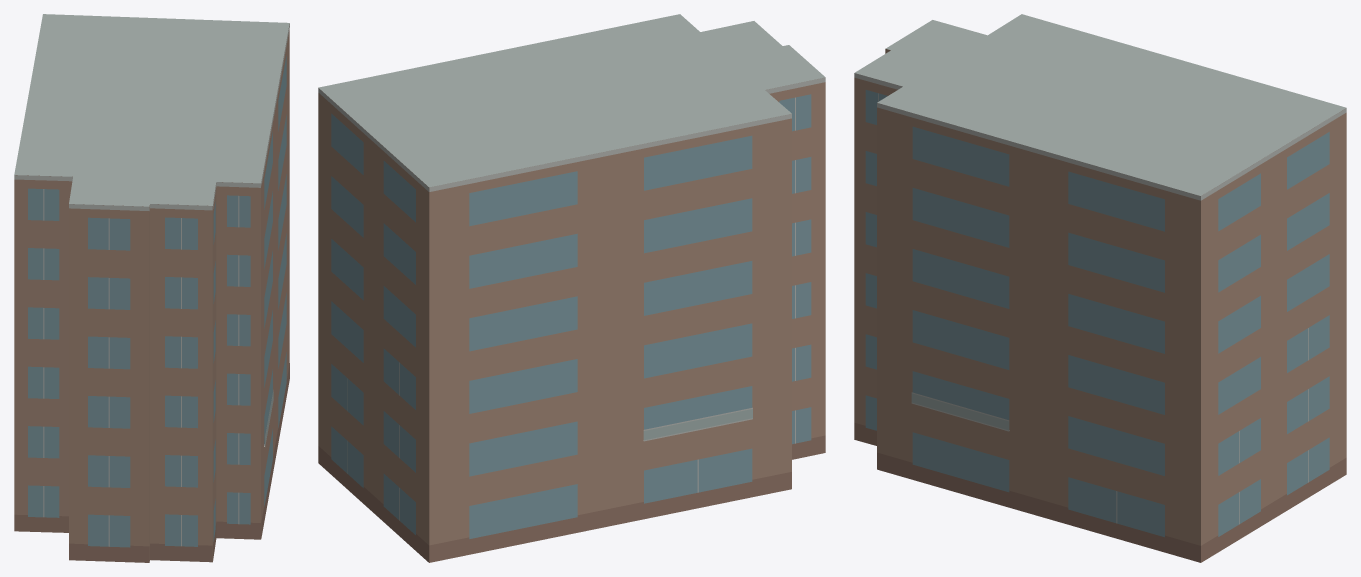
The model's file is survey-upis-33045116.glb.
3 renders of one model, left to right at view 1: azimuth 30°, elevation 25°; view 2: azimuth 150°, elevation 25°; view 3: azimuth 270°, elevation 25°, orthographic. The views are drawn at different scales.
Visible parts, largest first — view 1: survey-upis-33045116.tmp; view 2: survey-upis-33045116.tmp; view 3: survey-upis-33045116.tmp.
Boxes of the visible parts, left/top/right/bottom form: survey-upis-33045116.tmp: left=14, top=14, right=289, bottom=562; survey-upis-33045116.tmp: left=318, top=14, right=825, bottom=562; survey-upis-33045116.tmp: left=854, top=14, right=1346, bottom=562.
Size of the model in its own units: 20.62 by 19.35 by 23.55.
